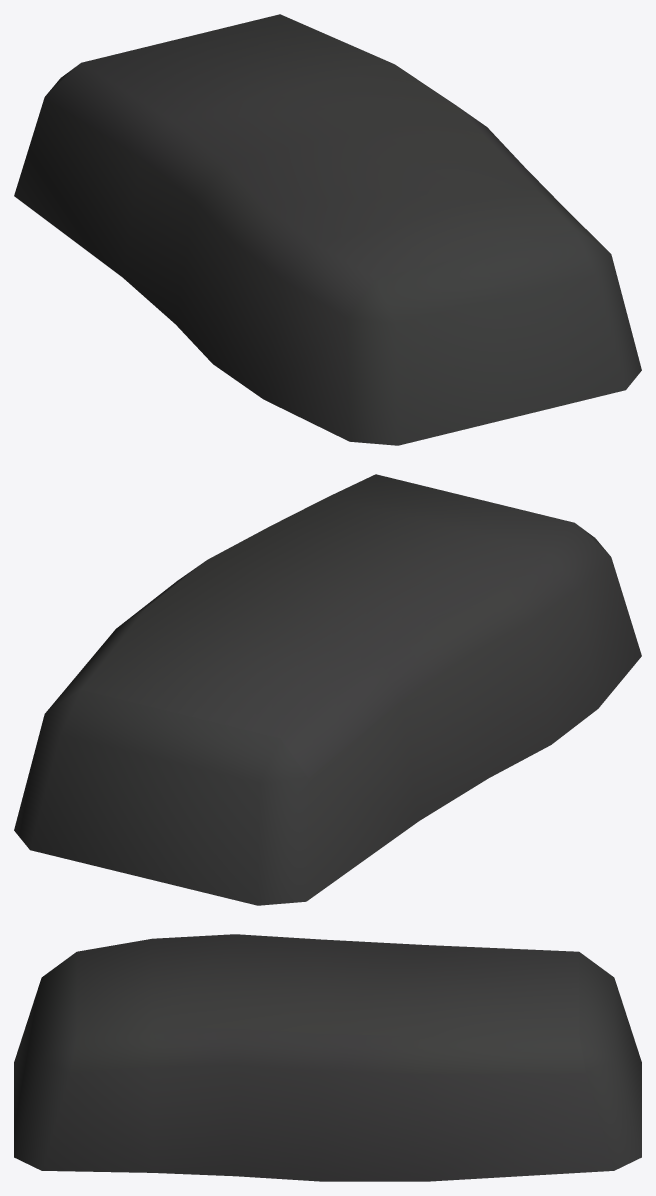
File: Brick_3_2.glb
3 views of the same model, one above another, from view 1: azimuth 30°, elevation 25°; view 2: azimuth 150°, elevation 25°; view 3: azimuth 270°, elevation 25° (orthographic). The views are drawn at different scales.
Visible parts, largest first — view 1: Brick_3_2; view 2: Brick_3_2; view 3: Brick_3_2.
Part boxes in pixels (x1=…): Brick_3_2: x1=14, y1=14, x2=641, y2=445; Brick_3_2: x1=14, y1=474, x2=641, y2=905; Brick_3_2: x1=14, y1=934, x2=641, y2=1181.
Size of the model in its own units: 0.1606 by 0.0674 by 0.2997.
1 material, 1 textured.
